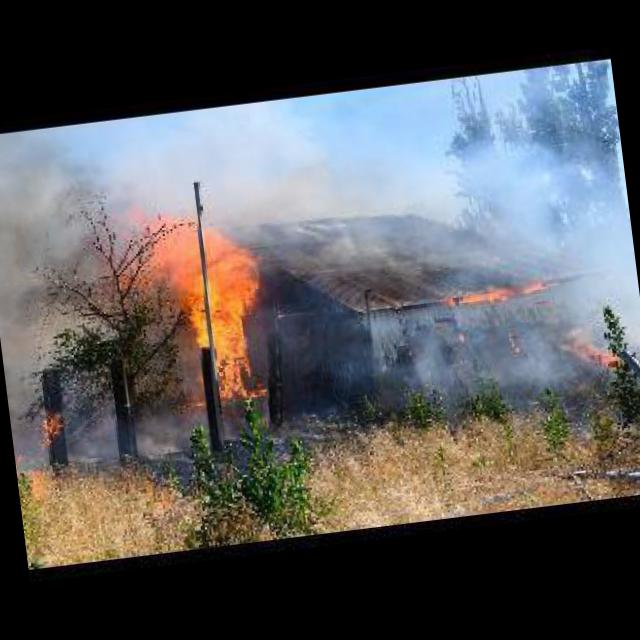fire: (115, 192, 284, 412), (560, 309, 636, 383), (436, 267, 550, 305), (22, 401, 71, 457)
smoke: (235, 57, 634, 300), (279, 294, 570, 448), (73, 396, 294, 474)
